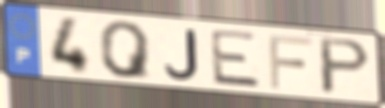4: (47, 15, 95, 78)
E: (208, 28, 264, 90)
F: (266, 33, 314, 91)
J: (162, 28, 201, 82)
P: (318, 36, 374, 96)
Q: (96, 20, 154, 81)
